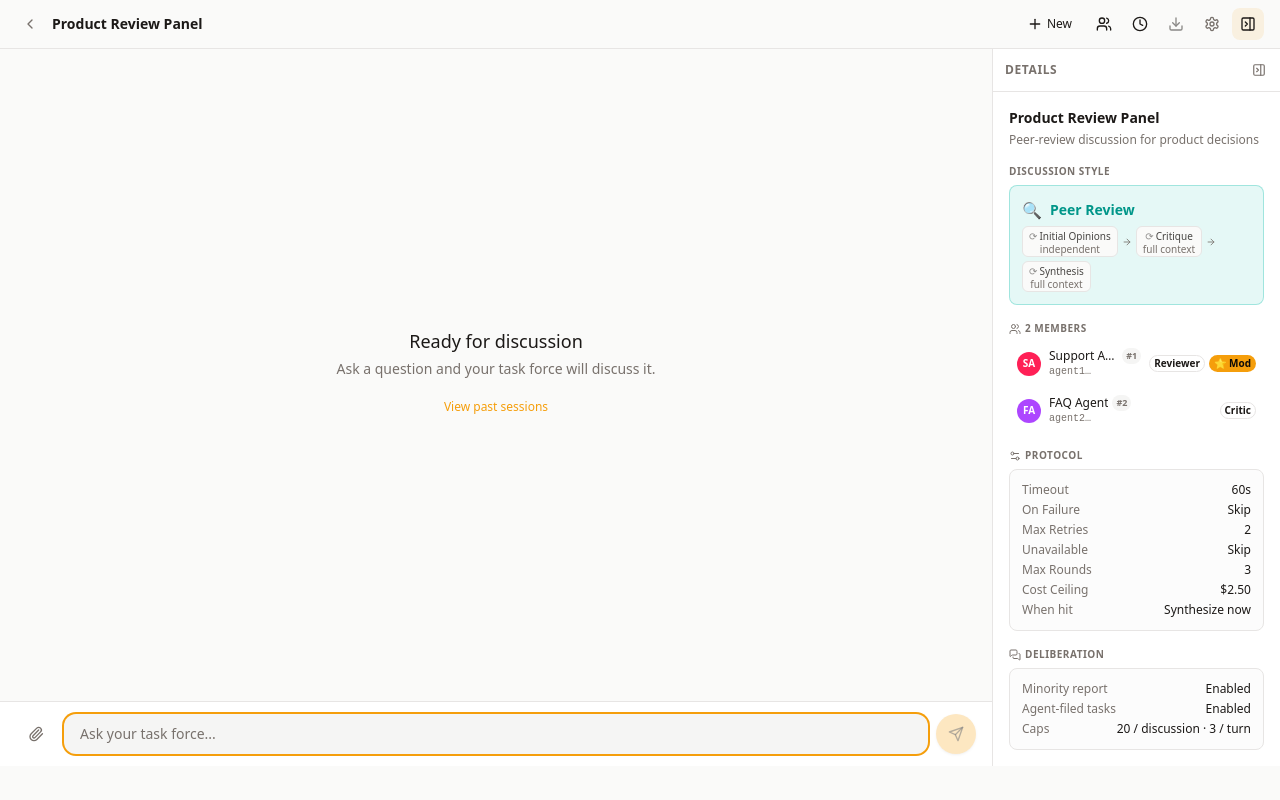
Test: Workforce Pages › WorkforceBoard › clears the open slide-over when a new discussion is started
This screenshot has width=1280, height=800.
Click the button with test id "sessions-toggle": (1140, 24) [1124, 8, 1156, 40]
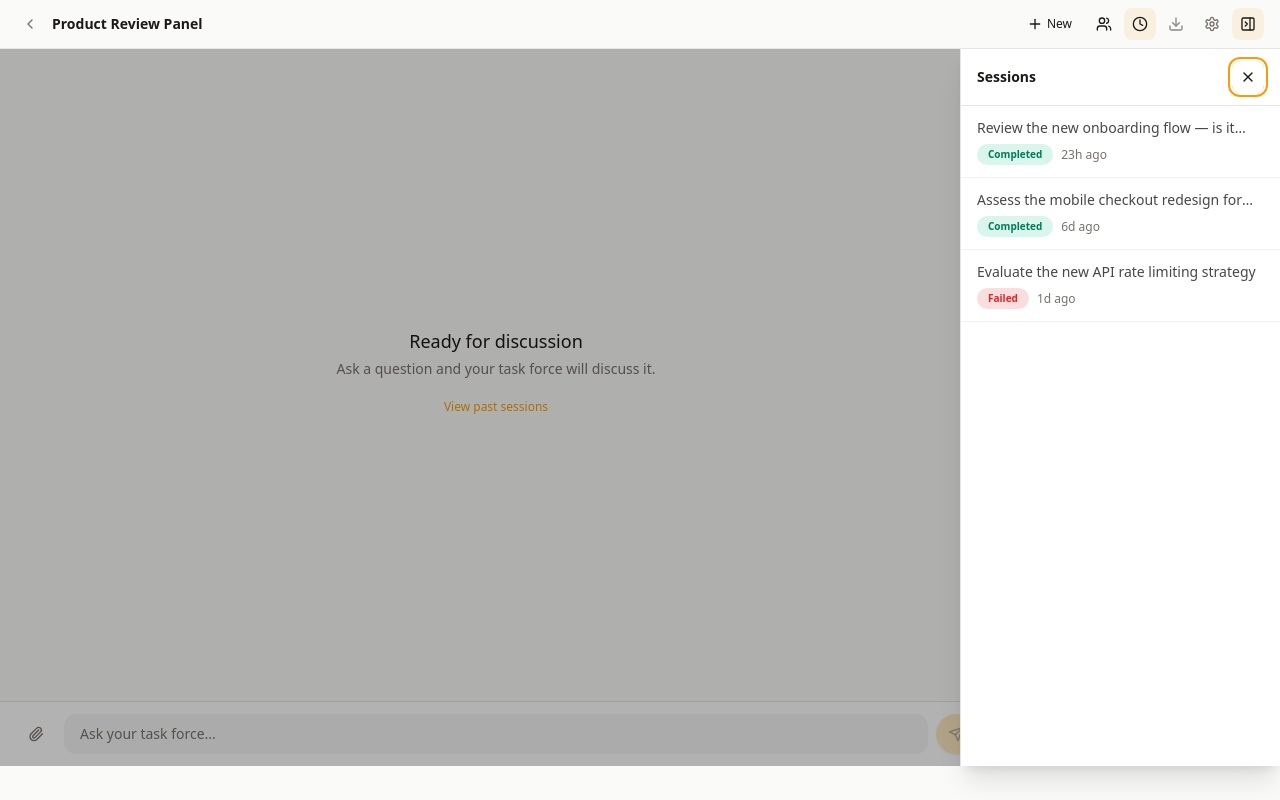
Expected: the dialog with test id "sessions-panel" is shown, [960, 49, 1279, 766]
Click the button with test id "new-discussion-btn": (1049, 24) [1015, 8, 1084, 40]
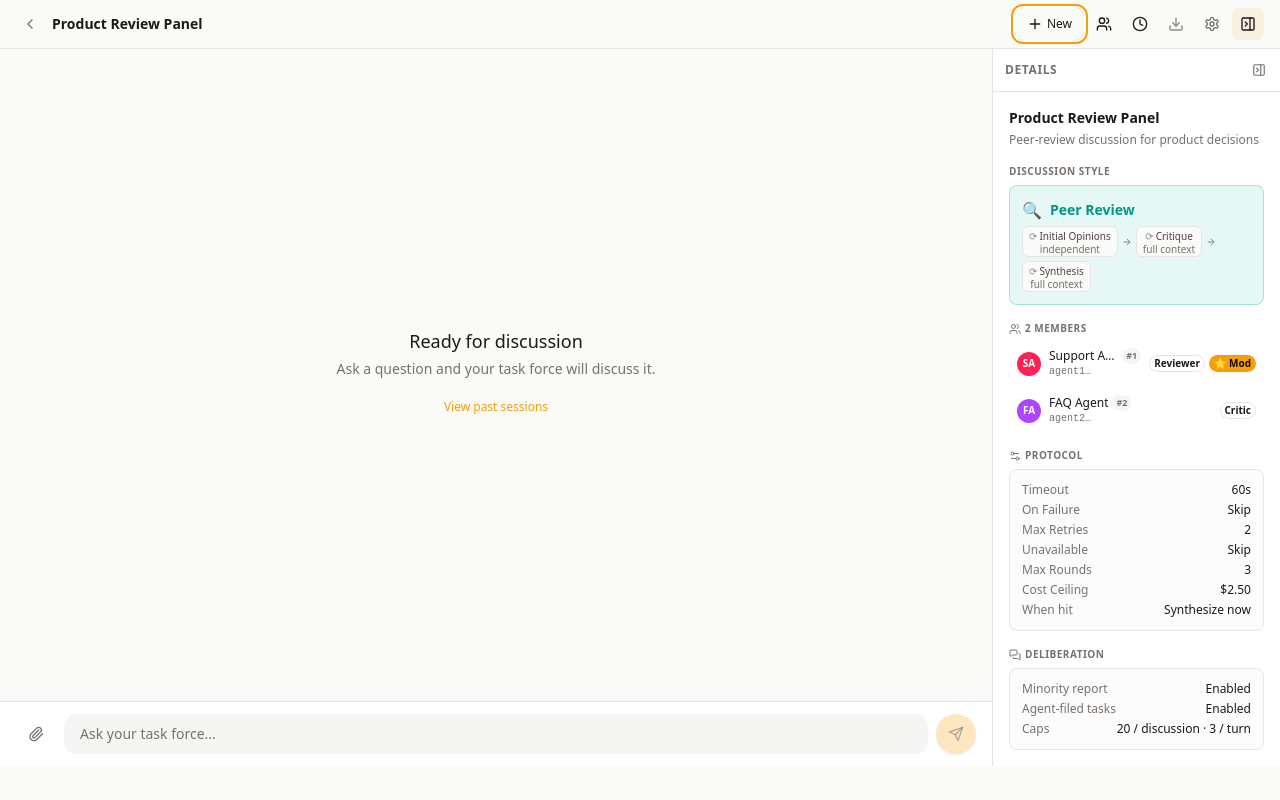
Expected: the dialog with test id "sessions-panel" is gone
